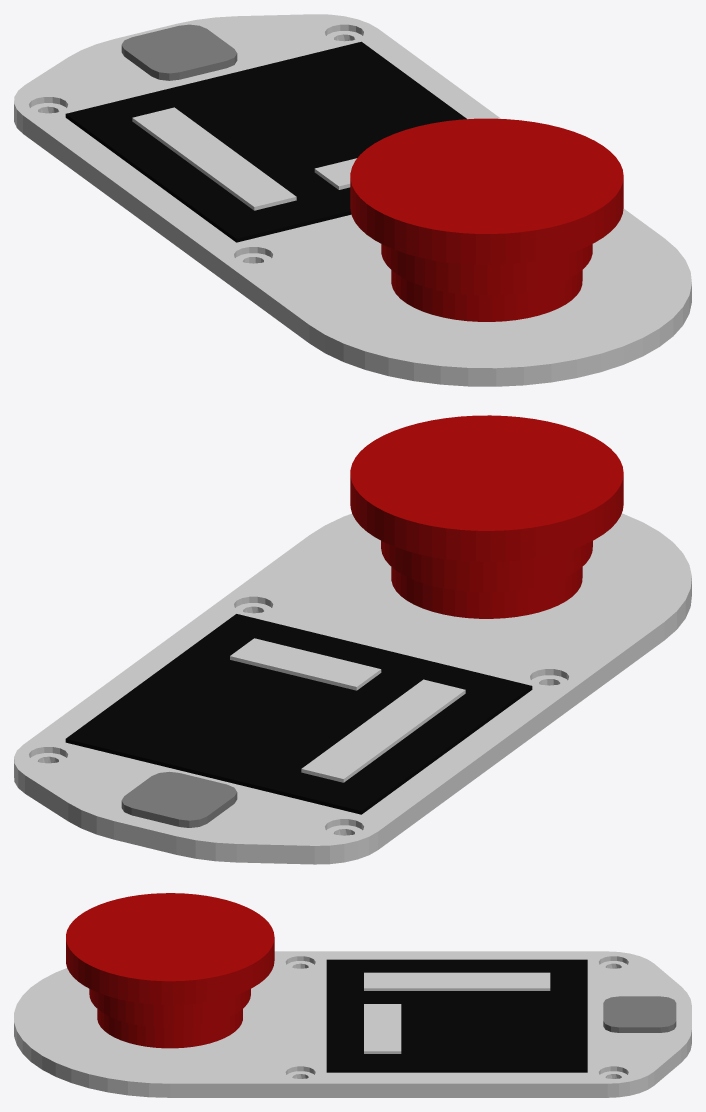
The model's file is ERC2022_button_ID1.dae.
3 renders of one model, top to bottom at view 1: azimuth 30°, elevation 25°; view 2: azimuth 150°, elevation 25°; view 3: azimuth 270°, elevation 25°, orthographic. The views are drawn at different scales.
Visible parts, largest first — view 1: ERC2022 grzyb white ID1, ERC2022 grzyb red, ERC2022 grzyb black, ERC2022 grzyb green; view 2: ERC2022 grzyb white ID1, ERC2022 grzyb red, ERC2022 grzyb black, ERC2022 grzyb green; view 3: ERC2022 grzyb white ID1, ERC2022 grzyb red, ERC2022 grzyb black, ERC2022 grzyb green.
Part boxes in pixels (left/top/right/bottom): ERC2022 grzyb white ID1: left=14, top=14, right=691, bottom=386; ERC2022 grzyb red: left=350, top=118, right=623, bottom=321; ERC2022 grzyb black: left=65, top=41, right=466, bottom=242; ERC2022 grzyb green: left=121, top=24, right=237, bottom=80; ERC2022 grzyb white ID1: left=14, top=513, right=691, bottom=864; ERC2022 grzyb red: left=350, top=415, right=623, bottom=618; ERC2022 grzyb black: left=65, top=614, right=532, bottom=814; ERC2022 grzyb green: left=121, top=771, right=237, bottom=827; ERC2022 grzyb white ID1: left=14, top=951, right=691, bottom=1097; ERC2022 grzyb red: left=66, top=893, right=274, bottom=1048; ERC2022 grzyb black: left=326, top=959, right=587, bottom=1072; ERC2022 grzyb green: left=603, top=996, right=676, bottom=1032.
Bounding box in the file's own units: 60 × 130 × 20.
